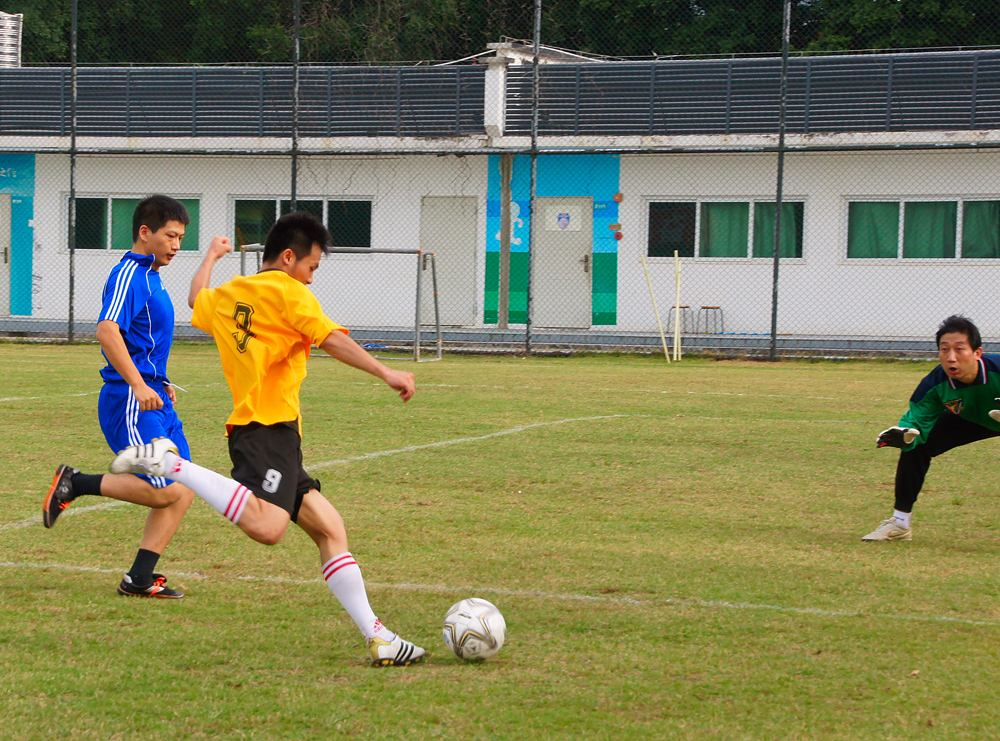football: (440, 594, 510, 665)
